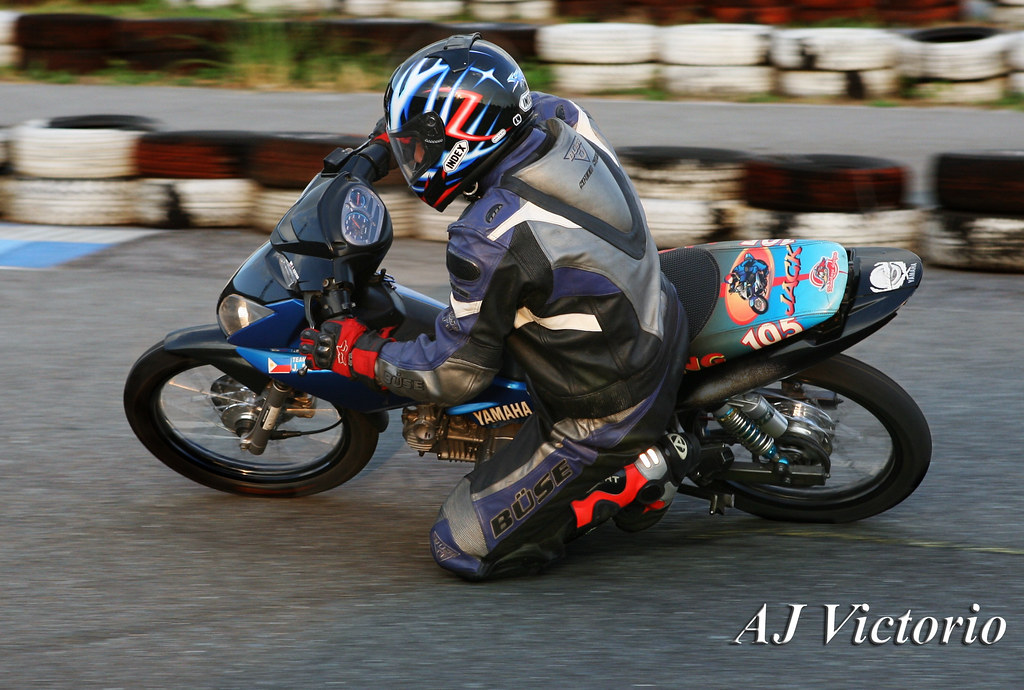helmet: (375, 36, 533, 196)
